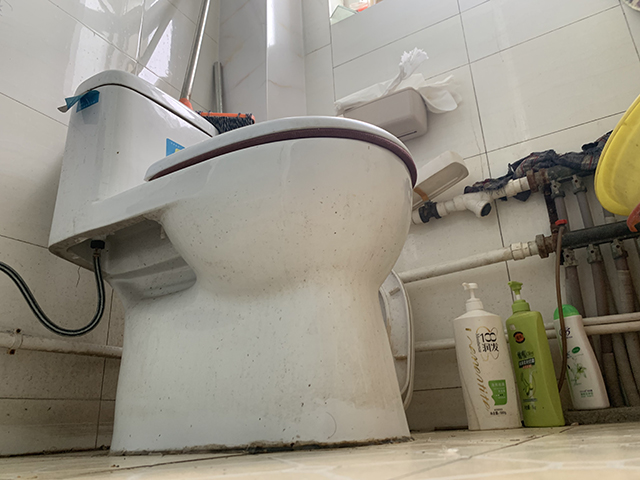closestool: (47, 68, 418, 456)
